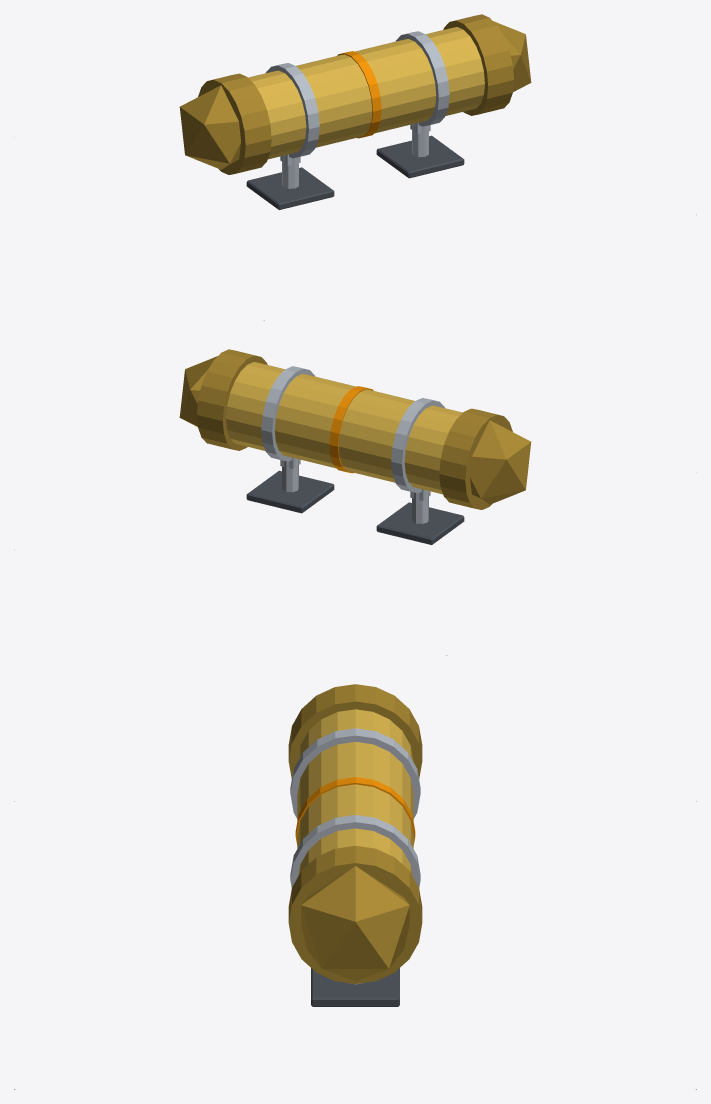
The model's file is tuyau_seul_t2.glb.
3 views of the same model, one above another, from view 1: azimuth 30°, elevation 25°; view 2: azimuth 150°, elevation 25°; view 3: azimuth 270°, elevation 25° (orthographic). The views are drawn at different scales.
Visible parts, largest first — view 1: pieces_laiton.014, pieces_laiton_sombre.014, pieces_gris_clair.014, pieces_acier_sombre.050, pieces_rive_t2.016; view 2: pieces_laiton.014, pieces_laiton_sombre.014, pieces_gris_clair.014, pieces_acier_sombre.050, pieces_rive_t2.016; view 3: pieces_laiton_sombre.014, pieces_laiton.014, pieces_gris_clair.014, pieces_acier_sombre.050, pieces_rive_t2.016.
Boxes of the visible parts, x1,y1,x2,y2 form: pieces_laiton.014: (248, 27, 484, 159); pieces_laiton_sombre.014: (179, 14, 531, 174); pieces_gris_clair.014: (266, 31, 449, 188); pieces_acier_sombre.050: (246, 135, 464, 209); pieces_rive_t2.016: (337, 51, 381, 138); pieces_laiton.014: (226, 362, 462, 494); pieces_laiton_sombre.014: (179, 349, 531, 509); pieces_gris_clair.014: (261, 366, 444, 523); pieces_acier_sombre.050: (246, 470, 464, 544); pieces_rive_t2.016: (329, 386, 373, 473); pieces_laiton_sombre.014: (288, 684, 422, 983); pieces_laiton.014: (297, 709, 413, 875); pieces_gris_clair.014: (290, 728, 420, 984); pieces_acier_sombre.050: (311, 968, 399, 1006); pieces_rive_t2.016: (295, 777, 415, 844).
Bounding box in the file's own units: 1 × 0.2778 × 1.
